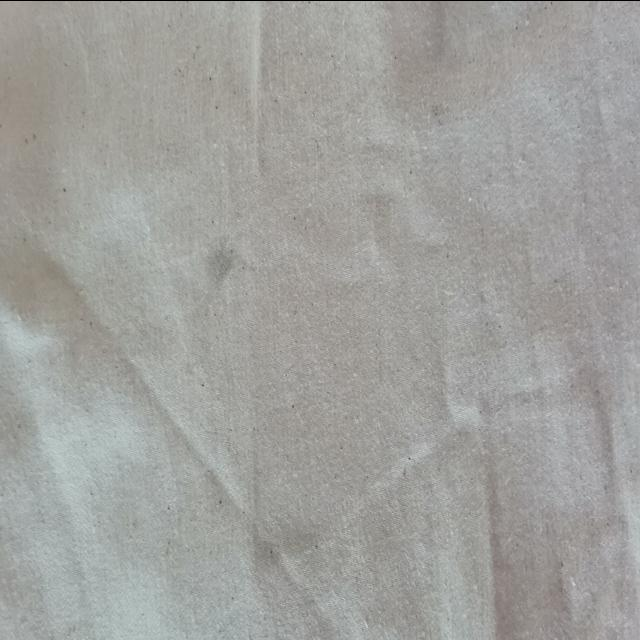taaaches: (196, 205, 250, 302)
